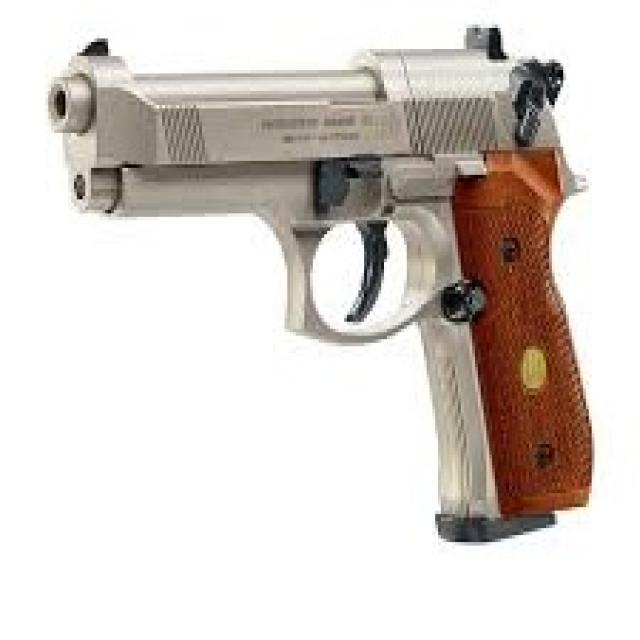pistol: (44, 17, 604, 559)
